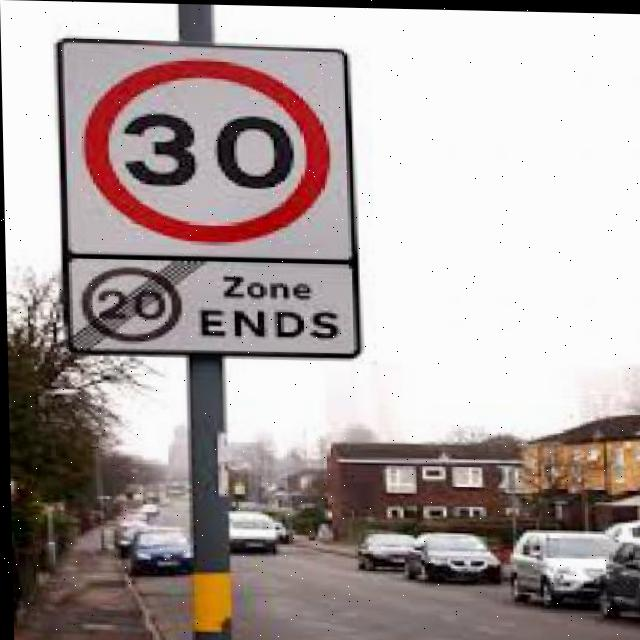Speed limit 30: (71, 48, 341, 253)
